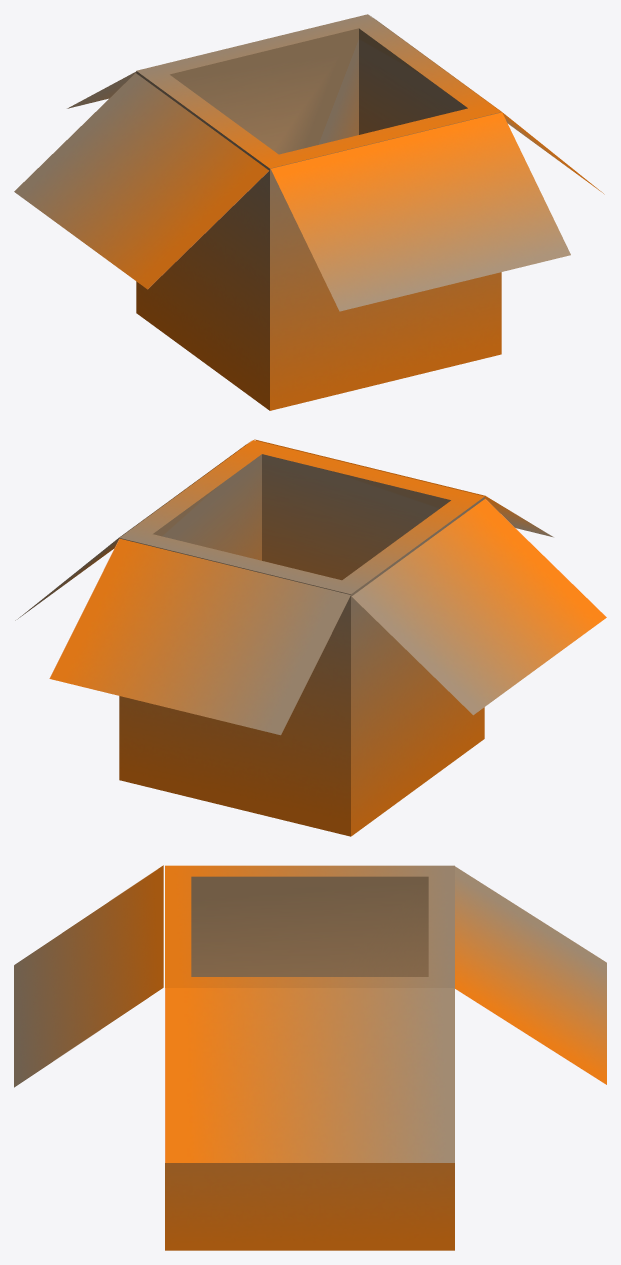
The model's file is karton.glb.
The picture shows the model from 3 angles, top to bottom: view 1: azimuth 30°, elevation 25°; view 2: azimuth 150°, elevation 25°; view 3: azimuth 270°, elevation 25°; orthographic projection. The views are drawn at different scales.
Visible parts, largest first — view 1: Cube; view 2: Cube; view 3: Cube.
Boxes of the visible parts, bbox=[...] form: Cube: bbox=[14, 14, 604, 410]; Cube: bbox=[15, 439, 606, 836]; Cube: bbox=[14, 865, 606, 1250].
Size of the model in its own units: 3.97 by 2 by 4.09.
1 material, 1 textured.
